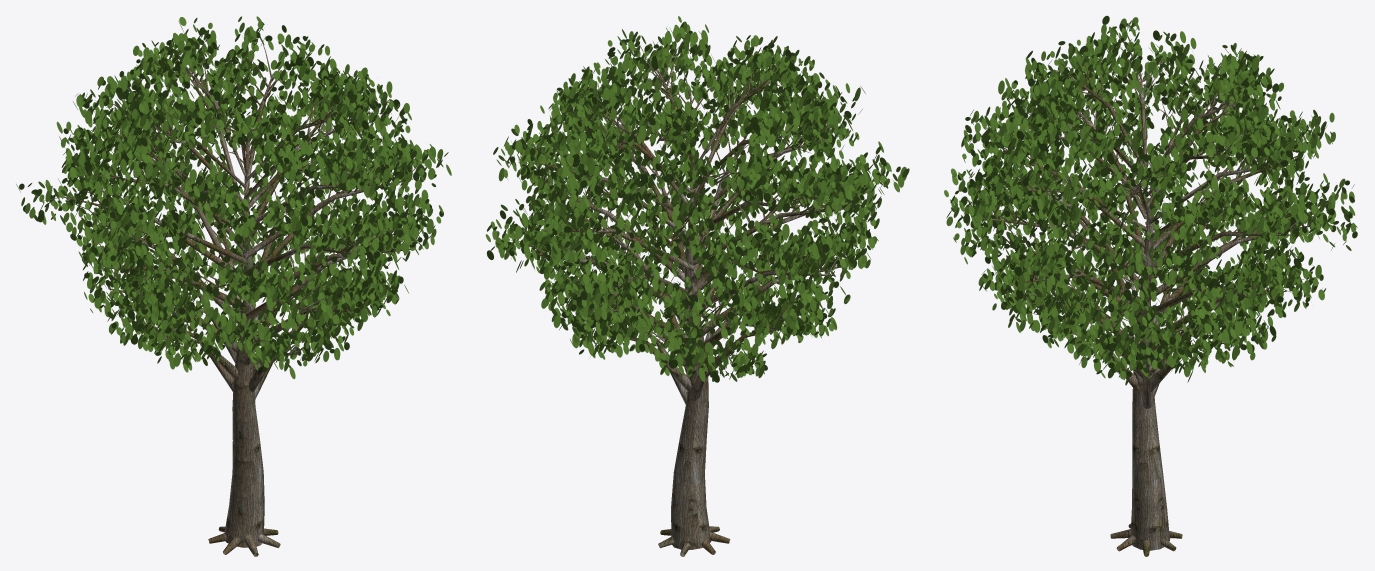
The model's file is american-elm.glb.
The picture shows the model from 3 angles, left to right: view 1: azimuth 30°, elevation 25°; view 2: azimuth 150°, elevation 25°; view 3: azimuth 270°, elevation 25°; orthographic projection.
Parts seen in each view (by area): view 1: american-elm; view 2: american-elm; view 3: american-elm.
Part boxes in pixels (x1,y1,x2,y2): american-elm: [16, 16, 451, 556]; american-elm: [485, 16, 909, 556]; american-elm: [944, 15, 1357, 556].
Bounding box in the file's own units: 14.63 × 19.09 × 15.06.
2 materials, 2 textured.
